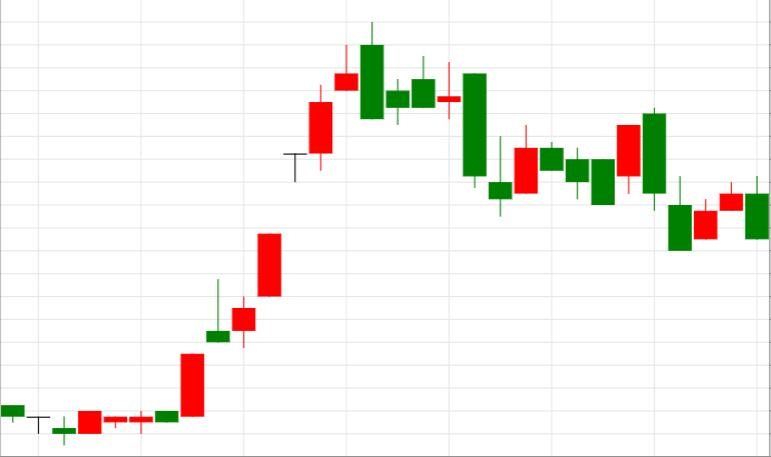bearish_engulfing_fall: (181, 21, 384, 417)
